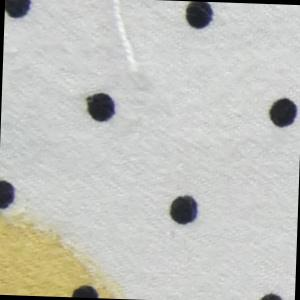Stain: (1, 206, 133, 300)
Wrinkle: (107, 1, 160, 88)
